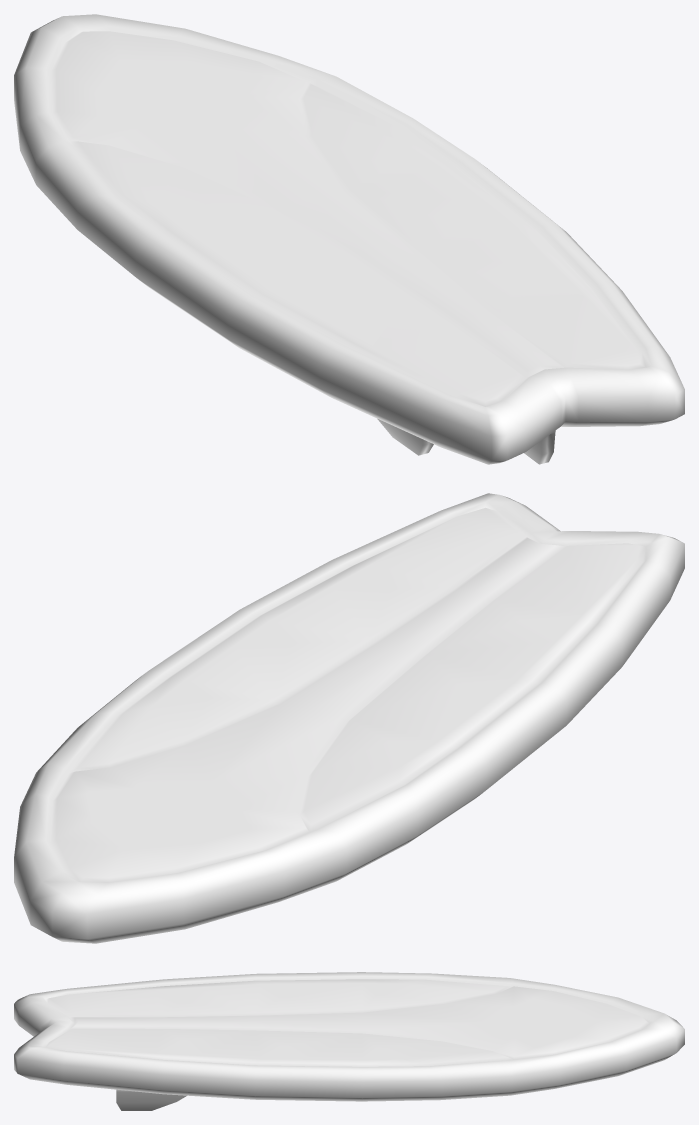
The model's file is Prop_SunlightSurfboardSporty.glb.
3 renders of one model, top to bottom at view 1: azimuth 30°, elevation 25°; view 2: azimuth 150°, elevation 25°; view 3: azimuth 270°, elevation 25°, orthographic. The views are drawn at different scales.
Visible parts, largest first — view 1: Prop_SunlightSurfboardSporty; view 2: Prop_SunlightSurfboardSporty; view 3: Prop_SunlightSurfboardSporty.
Part boxes in pixels (x1,y1,x2,y2): Prop_SunlightSurfboardSporty: [14, 14, 684, 464]; Prop_SunlightSurfboardSporty: [14, 493, 684, 943]; Prop_SunlightSurfboardSporty: [14, 972, 684, 1110].
Bounding box in the file's own units: 2.84 × 0.7417 × 7.56.
Materials: 1 (1 with a texture image).
